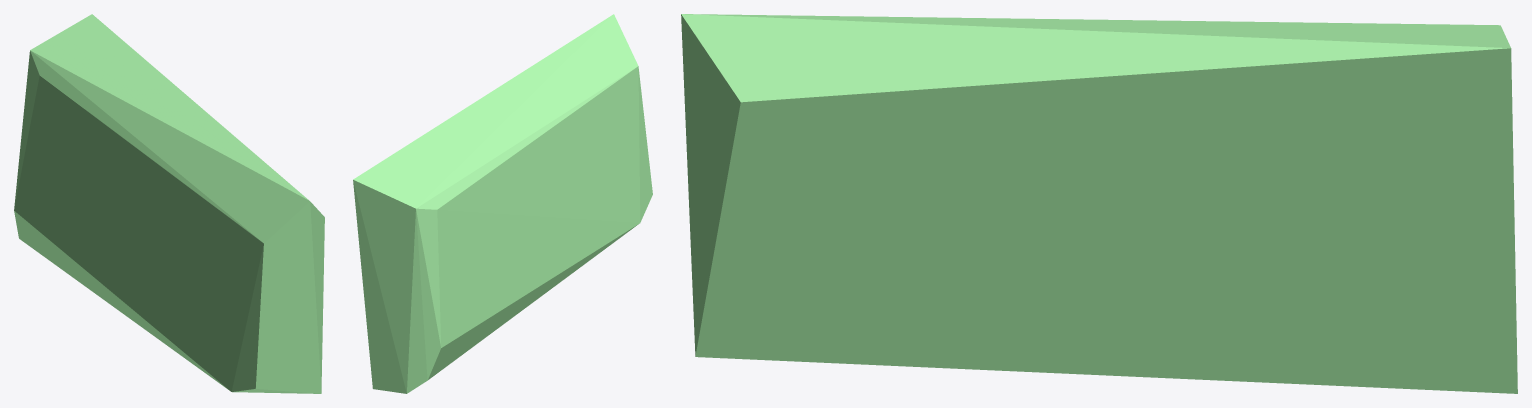
The model's file is UMIRobot_UMIRobot_link_4_convex_coll_8.dae.
3 views of the same model, side by side, from view 1: azimuth 30°, elevation 25°; view 2: azimuth 150°, elevation 25°; view 3: azimuth 270°, elevation 25° (orthographic). The views are drawn at different scales.
Parts seen in each view (by area): view 1: node; view 2: node; view 3: node.
Boxes of the visible parts, bbox=[...] form: node: bbox=[14, 14, 324, 393]; node: bbox=[353, 14, 652, 393]; node: bbox=[681, 14, 1517, 393].
Bounding box in the file's own units: 0.00806 × 0.0199 × 0.0406.
